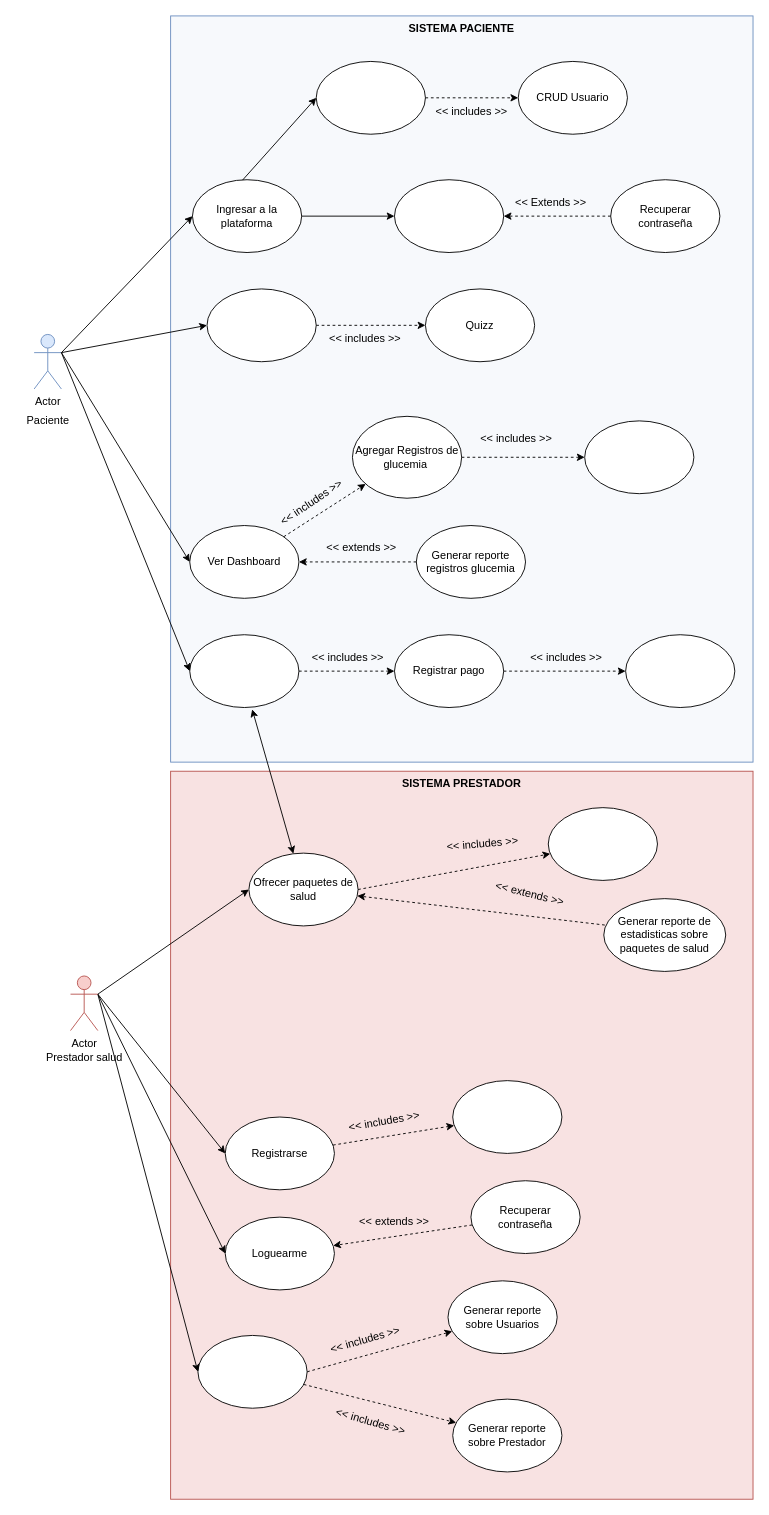
This 769x1515 diagram has some shape labels left out. Here are the shapes that lost their labels. From the top down, the centre of each, then its label:
At (x=370, y=97): "Registrar nuevo usuario".
At (x=449, y=216): "Ingresar con usuario".
At (x=261, y=325): "Dar informacion sobre mi salud?".
At (x=639, y=457): "CRUD registro".
At (x=244, y=671): "Adquirir paquetes medicos".
At (x=680, y=671): "Generar factura".
At (x=602, y=843): "CRUD paquetes de salud".
At (x=507, y=1116): "CRUD Prestador".
At (x=252, y=1371): "Ver estadisticas".
